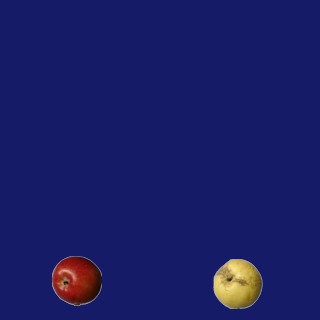Apple Braeburn: (51, 255, 101, 305)
Apple Golden 1: (212, 258, 262, 308)
